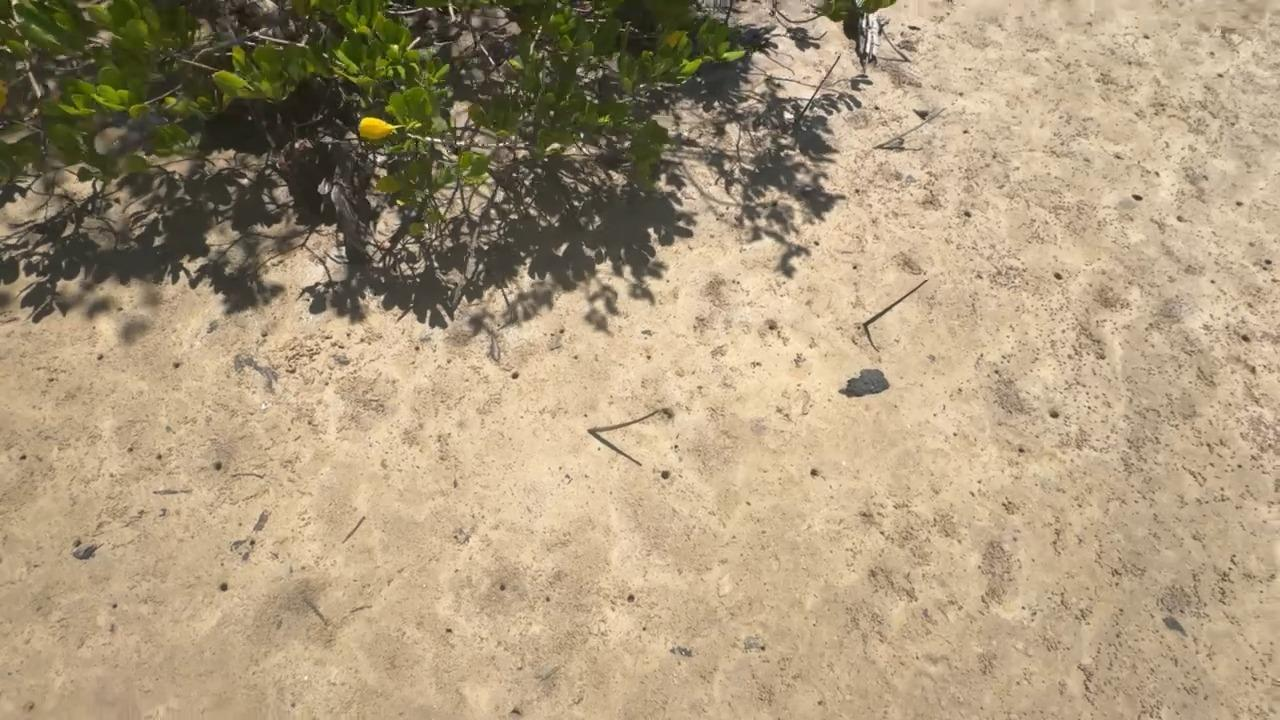Tree: (862, 279, 929, 327), (872, 108, 945, 148), (799, 57, 842, 120), (590, 411, 661, 434)
